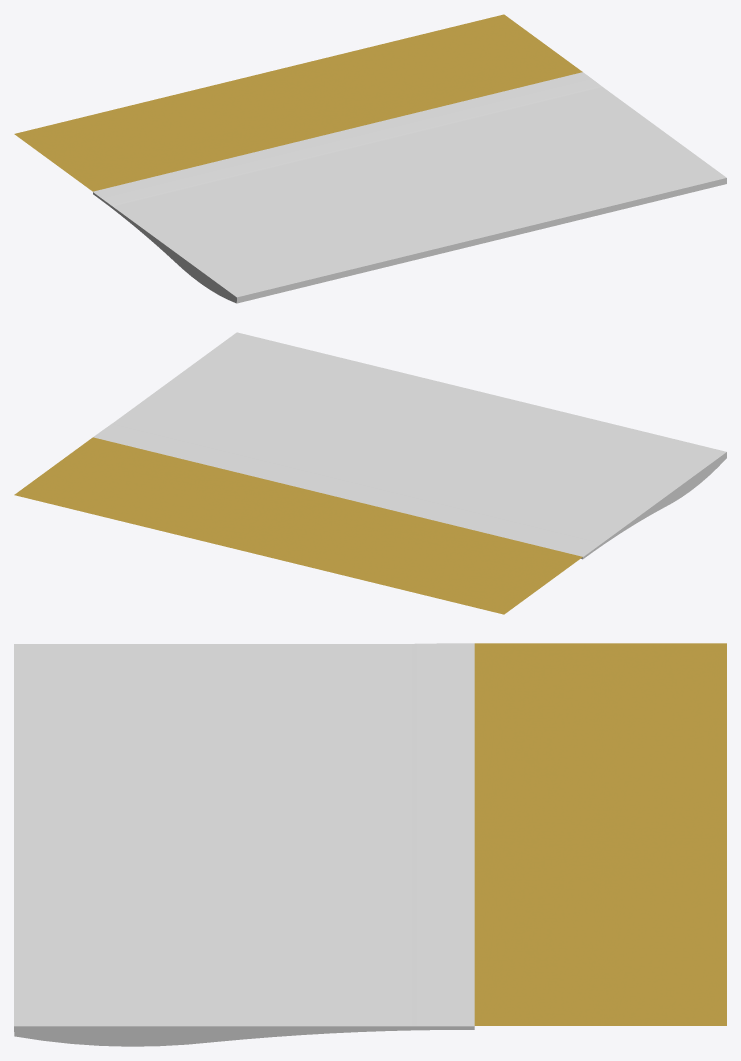
Rendered from Praia.fbx.
The picture shows the model from 3 angles, top to bottom: view 1: azimuth 30°, elevation 25°; view 2: azimuth 150°, elevation 25°; view 3: azimuth 270°, elevation 25°; orthographic projection. The views are drawn at different scales.
Parts seen in each view (by area): view 1: Mar, Mar.001, Plane.002, Plane.003, areia.001, areia; view 2: Mar, Mar.001, Plane.002, Plane.003, areia.001, areia; view 3: Mar.001, Mar, Plane.002, Plane.003, areia.001, areia.
Part boxes in pixels (x1=…): Mar: x1=93, y1=146, x2=482, y2=303; Mar.001: x1=358, y1=87, x2=726, y2=243; Plane.002: x1=14, y1=74, x2=337, y2=191; Plane.003: x1=259, y1=14, x2=582, y2=131; areia.001: x1=338, y1=72, x2=602, y2=146; areia: x1=93, y1=132, x2=356, y2=206; Mar: x1=358, y1=392, x2=726, y2=559; Mar.001: x1=113, y1=332, x2=481, y2=482; Plane.002: x1=259, y1=497, x2=582, y2=614; Plane.003: x1=14, y1=437, x2=337, y2=554; areia.001: x1=93, y1=423, x2=357, y2=496; areia: x1=338, y1=483, x2=601, y2=556; Mar.001: x1=14, y1=835, x2=474, y2=1046; Mar: x1=14, y1=644, x2=411, y2=835; Plane.002: x1=474, y1=643, x2=726, y2=834; Plane.003: x1=474, y1=835, x2=726, y2=1025; areia.001: x1=411, y1=834, x2=474, y2=1026; areia: x1=411, y1=643, x2=474, y2=834.
Bounding box in the file's own units: 3316 × 84.27 × 2611.
